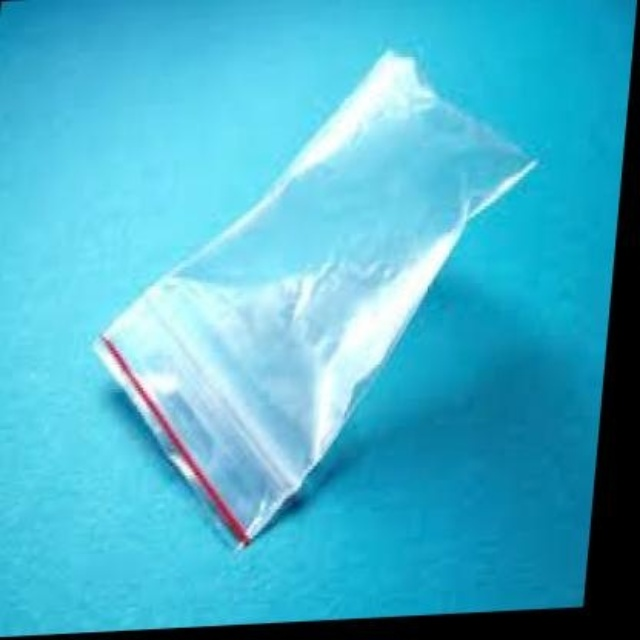trash: (95, 51, 534, 545)
